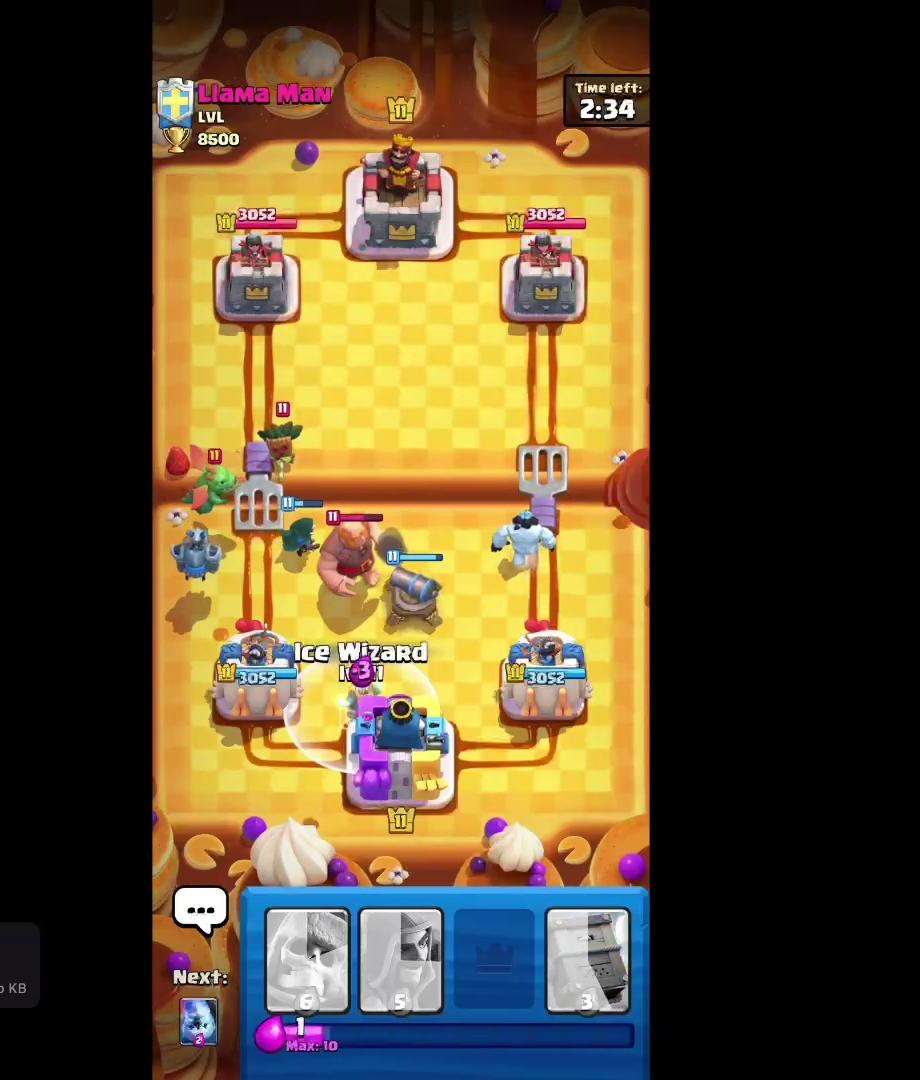Baby Dragon: (176, 446, 248, 518)
Dart Goblin: (257, 402, 309, 479)
Giant: (318, 507, 391, 599)
